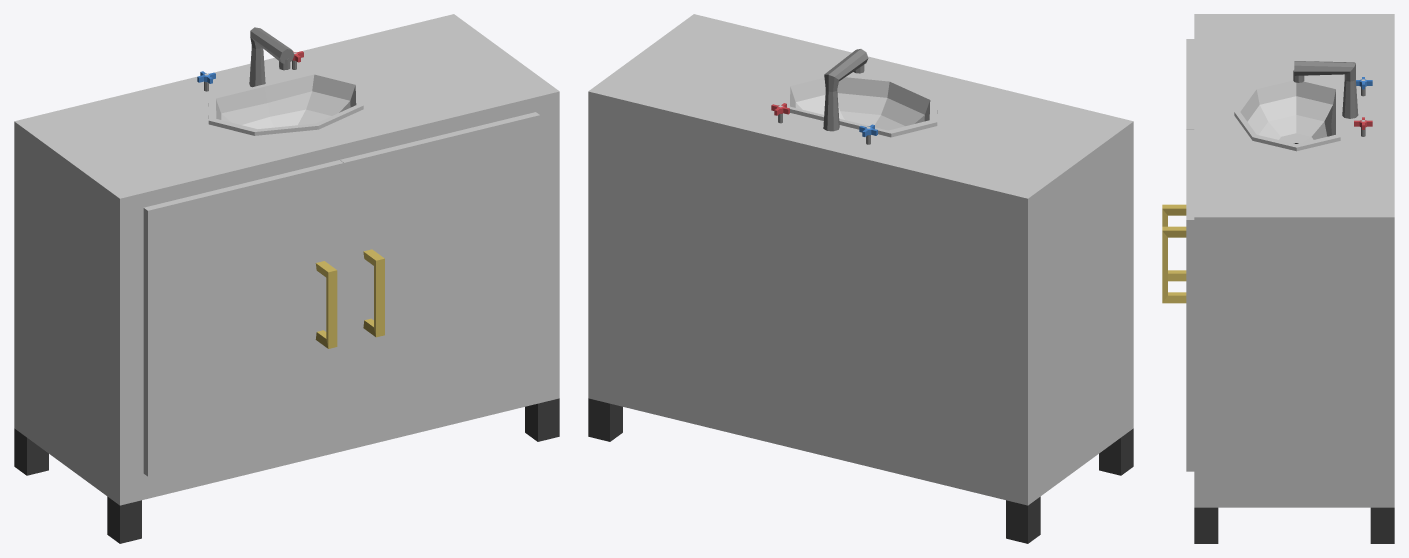
The model's file is Sink.fbx.
3 views of the same model, side by side, from view 1: azimuth 30°, elevation 25°; view 2: azimuth 150°, elevation 25°; view 3: azimuth 270°, elevation 25° (orthographic). The views are drawn at different scales.
Visible parts, largest first — view 1: Bathroom Sink, Left Door, Right Door; view 2: Bathroom Sink; view 3: Bathroom Sink, Right Door, Left Door.
Part boxes in pixels (<box>): Bathroom Sink: <box>14,14,559,543</box>; Left Door: <box>143,160,343,476</box>; Right Door: <box>340,112,539,428</box>; Bathroom Sink: <box>588,14,1133,543</box>; Bathroom Sink: <box>1194,14,1394,543</box>; Right Door: <box>1162,129,1194,471</box>; Left Door: <box>1162,39,1194,281</box>.
Size of the model in its own units: 1200 by 1050 by 580.
